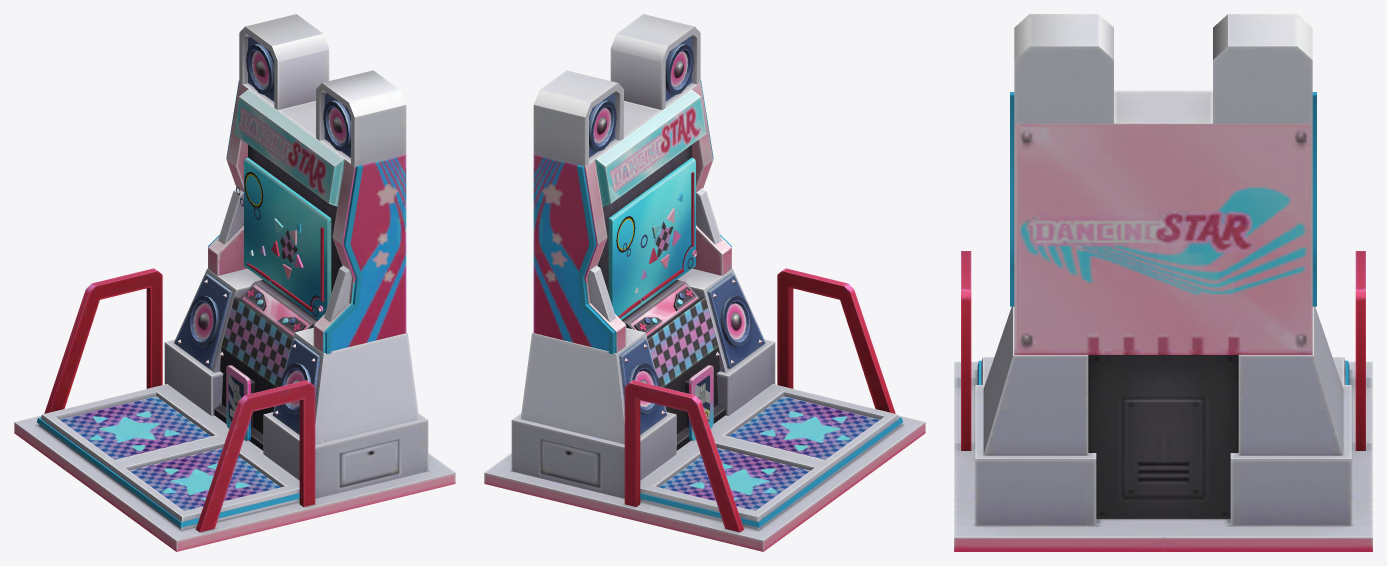
File: my_gamecenter_01_p_dancingstar.glb
The picture shows the model from 3 angles, left to right: view 1: azimuth 30°, elevation 25°; view 2: azimuth 150°, elevation 25°; view 3: azimuth 270°, elevation 25°; orthographic projection. The views are drawn at different scales.
Visible parts, largest first — view 1: my_gamecenter_01_p_dancingstar; view 2: my_gamecenter_01_p_dancingstar; view 3: my_gamecenter_01_p_dancingstar.
Part boxes in pixels (<box>): my_gamecenter_01_p_dancingstar: <box>14,14,455,551</box>; my_gamecenter_01_p_dancingstar: <box>484,14,925,551</box>; my_gamecenter_01_p_dancingstar: <box>954,14,1372,551</box>.
Size of the model in its own units: 0.0167 by 0.0217 by 0.0168.
Materials: 3 (3 with a texture image).
